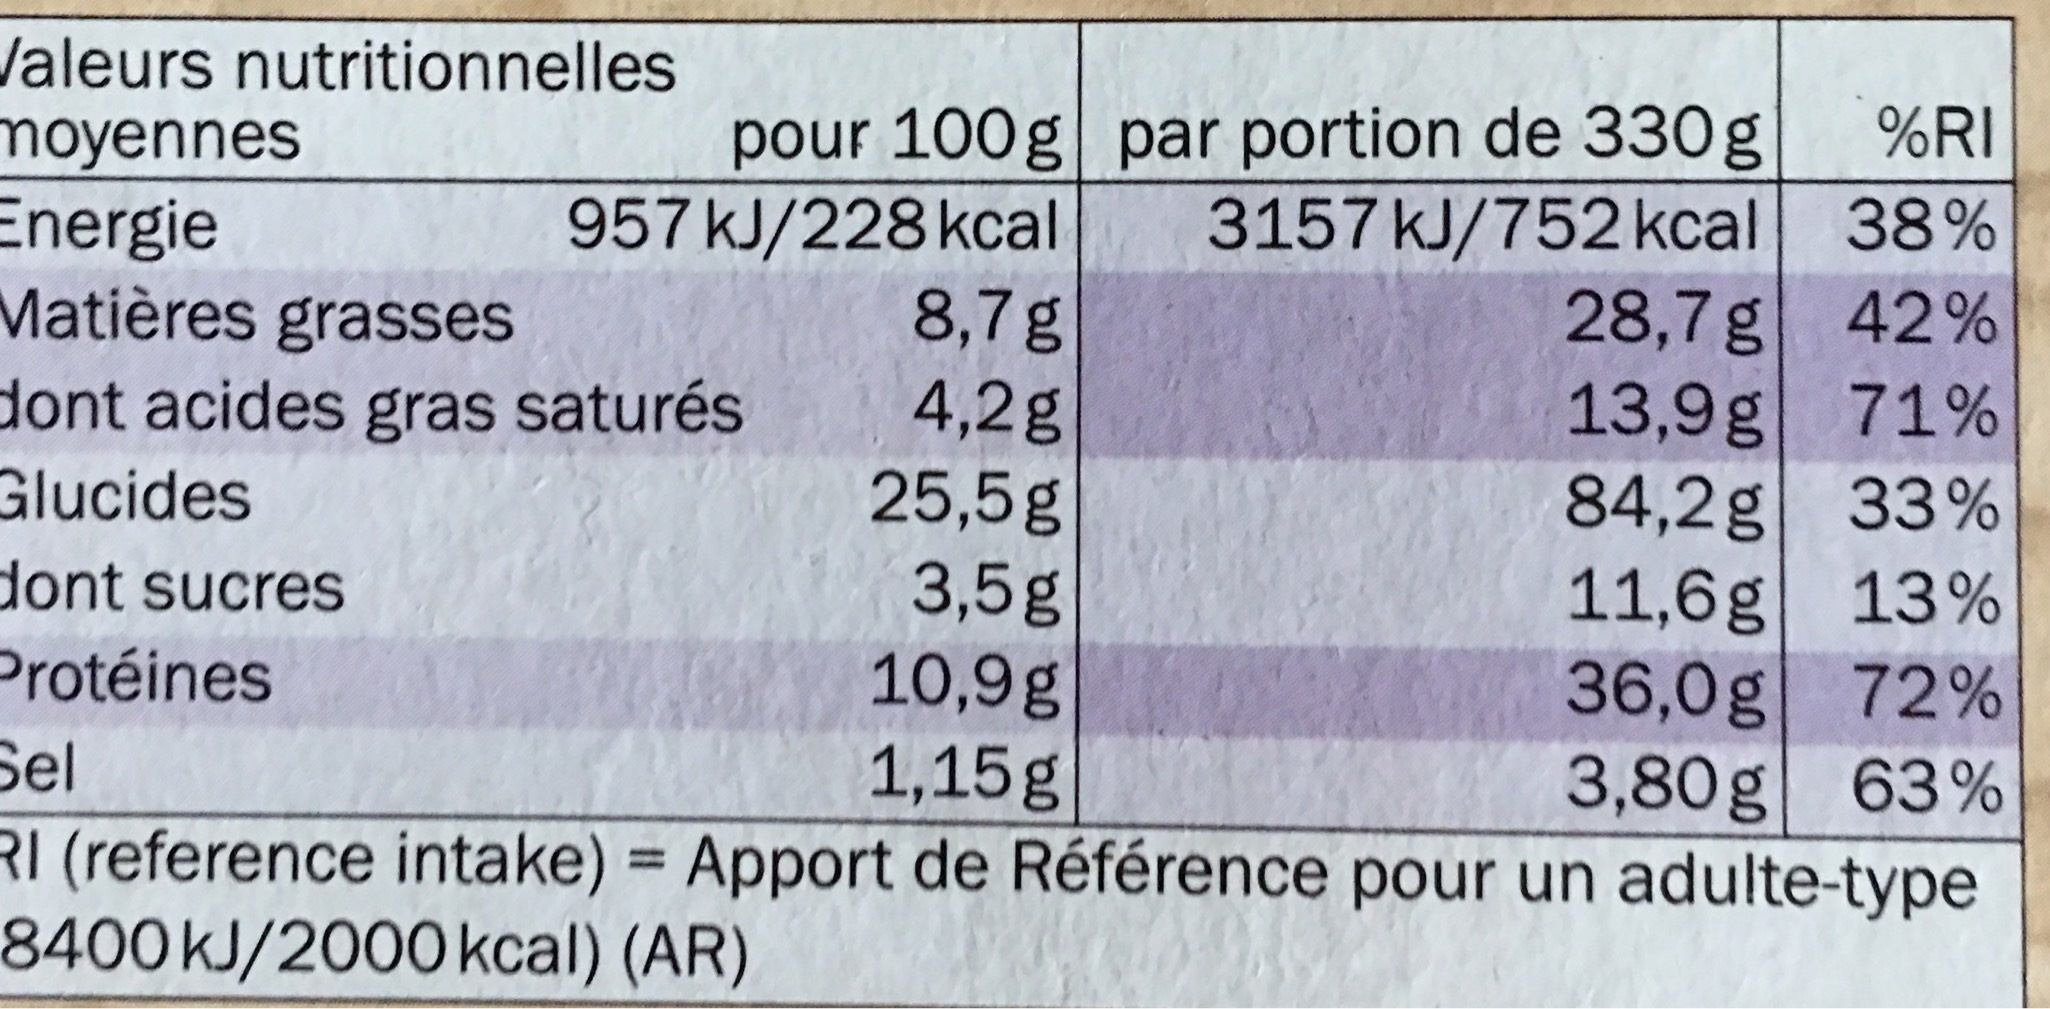column: (1, 29, 1066, 814), (1103, 85, 1775, 829), (1830, 84, 2009, 829)
table: (1, 4, 2040, 830)
